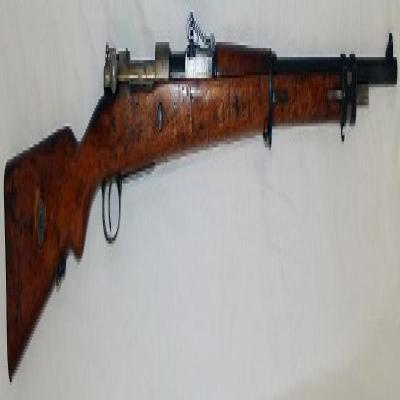weapon: (3, 12, 400, 382)
